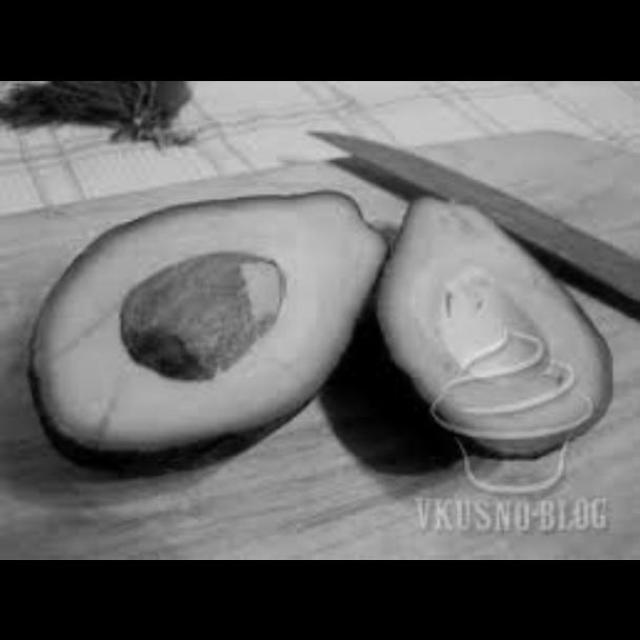avocado: (19, 147, 377, 525), (350, 179, 639, 493)
